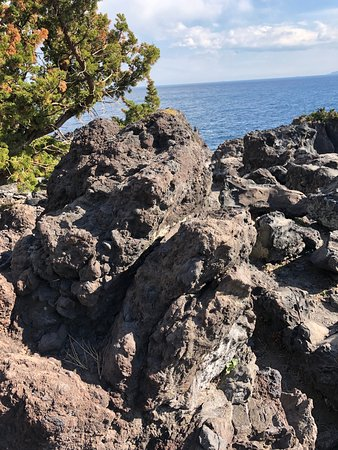volcanic_rock: (115, 212, 260, 410), (221, 155, 338, 358), (52, 124, 213, 224), (160, 365, 319, 450), (242, 128, 316, 172)
